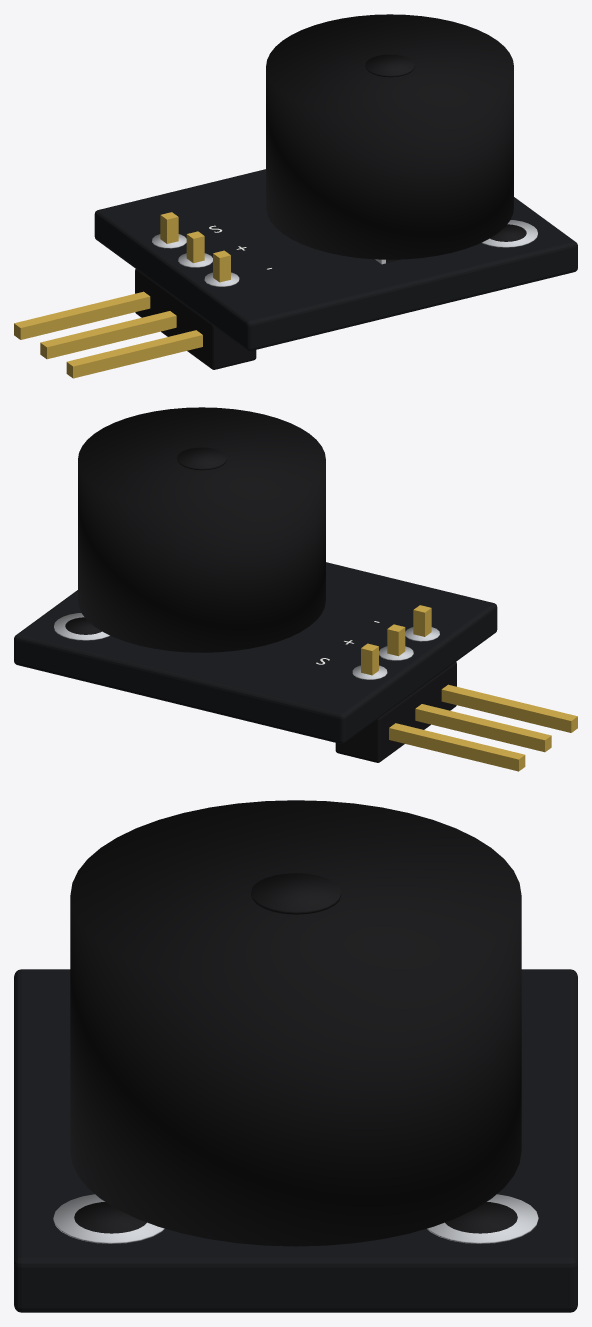
File: passive-buzzer.glb
3 views of the same model, one above another, from view 1: azimuth 30°, elevation 25°; view 2: azimuth 150°, elevation 25°; view 3: azimuth 270°, elevation 25° (orthographic). The views are drawn at different scales.
Parts seen in each view (by area): view 1: part.077, pcb.025, header.025, pin_h.086, pin_h.087, pin_h.088, part.078, hole_ring.042, pin_v.086, pin_v.087, pin_v.088; view 2: part.077, pcb.025, header.025, pin_h.088, pin_h.086, pin_h.087, part.078, hole_ring.041, pin_v.087, pin_v.088, pin_v.086; view 3: part.077, pcb.025, part.078, hole_ring.041, hole_ring.042, hole.041, hole.042.
Boxes of the visible parts, left/top/right/bottom form: part.077: left=266, top=14, right=513, bottom=259; pcb.025: left=94, top=169, right=577, bottom=350; header.025: left=135, top=269, right=256, bottom=369; pin_h.086: left=14, top=291, right=150, bottom=339; pin_h.087: left=40, top=311, right=176, bottom=359; pin_h.088: left=66, top=330, right=202, bottom=378; part.078: left=365, top=54, right=414, bottom=77; hole_ring.042: left=482, top=220, right=537, bottom=247; pin_v.086: left=160, top=212, right=178, bottom=243; pin_v.087: left=186, top=231, right=204, bottom=263; pin_v.088: left=213, top=250, right=230, bottom=282; part.077: left=78, top=407, right=325, bottom=652; pcb.025: left=14, top=562, right=497, bottom=743; header.025: left=335, top=662, right=456, bottom=762; pin_h.088: left=441, top=684, right=577, bottom=732; pin_h.086: left=389, top=723, right=525, bottom=771; pin_h.087: left=415, top=704, right=551, bottom=752; part.078: left=177, top=447, right=226, bottom=470; hole_ring.041: left=54, top=613, right=109, bottom=640; pin_v.087: left=387, top=624, right=405, bottom=656; pin_v.088: left=413, top=605, right=431, bottom=636; pin_v.086: left=361, top=643, right=378, bottom=675; part.077: left=70, top=800, right=521, bottom=1246; pcb.025: left=14, top=969, right=577, bottom=1312; part.078: left=251, top=873, right=340, bottom=914; hole_ring.041: left=427, top=1194, right=538, bottom=1243; hole_ring.042: left=53, top=1194, right=164, bottom=1243; hole.041: left=445, top=1202, right=517, bottom=1233; hole.042: left=74, top=1202, right=146, bottom=1233.
Bounding box in the file's own units: 0.0256 × 0.012 × 0.015.
